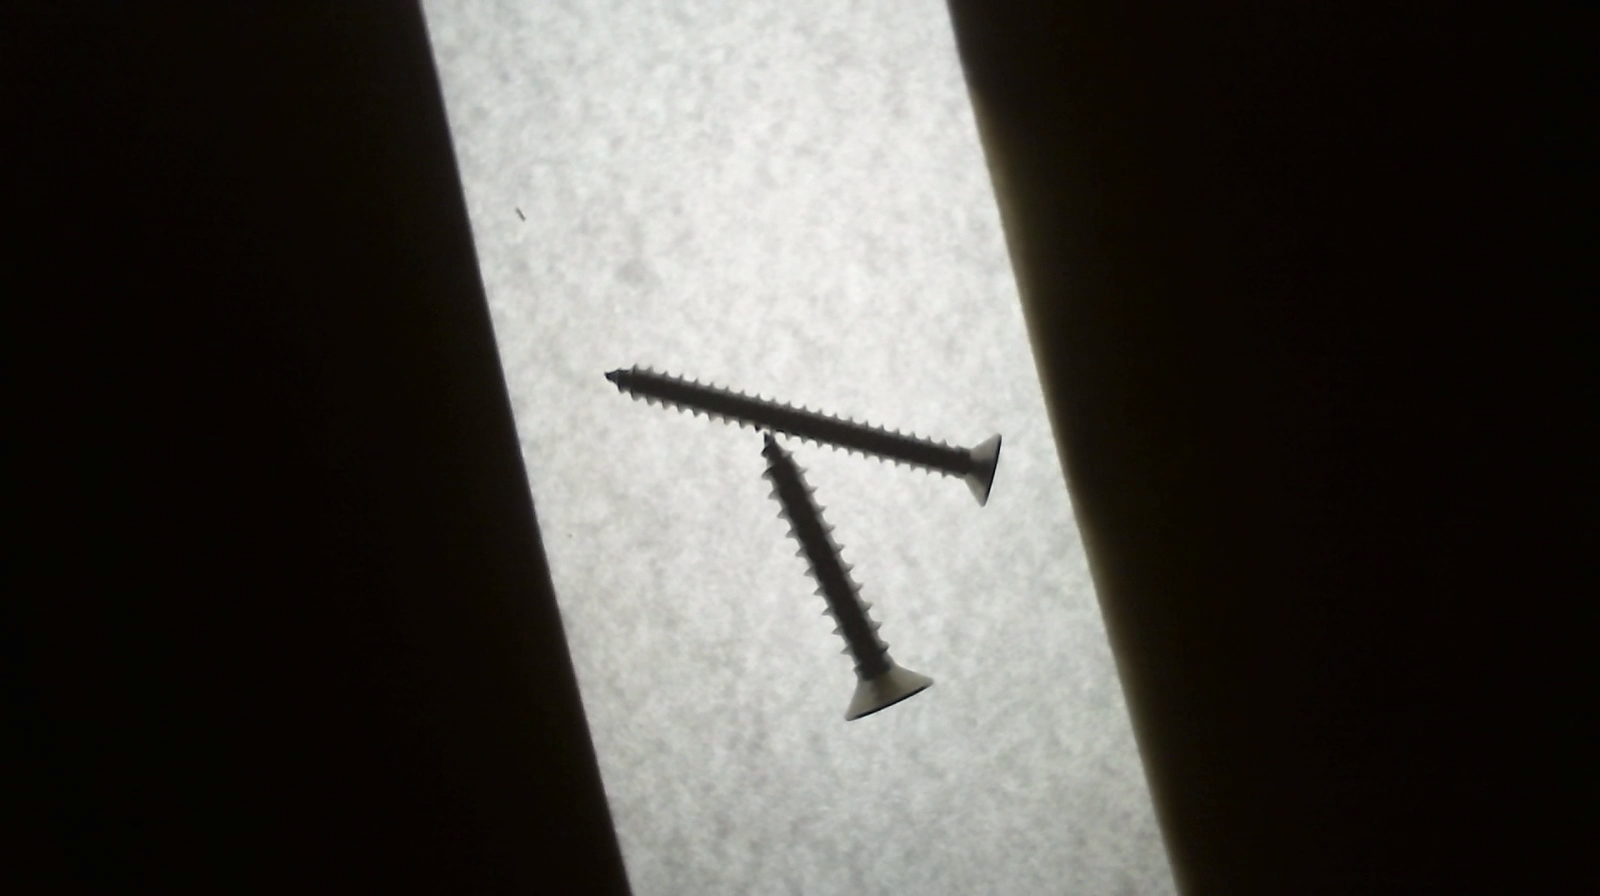S001: (755, 430, 942, 726)
S002: (602, 359, 1004, 511)
